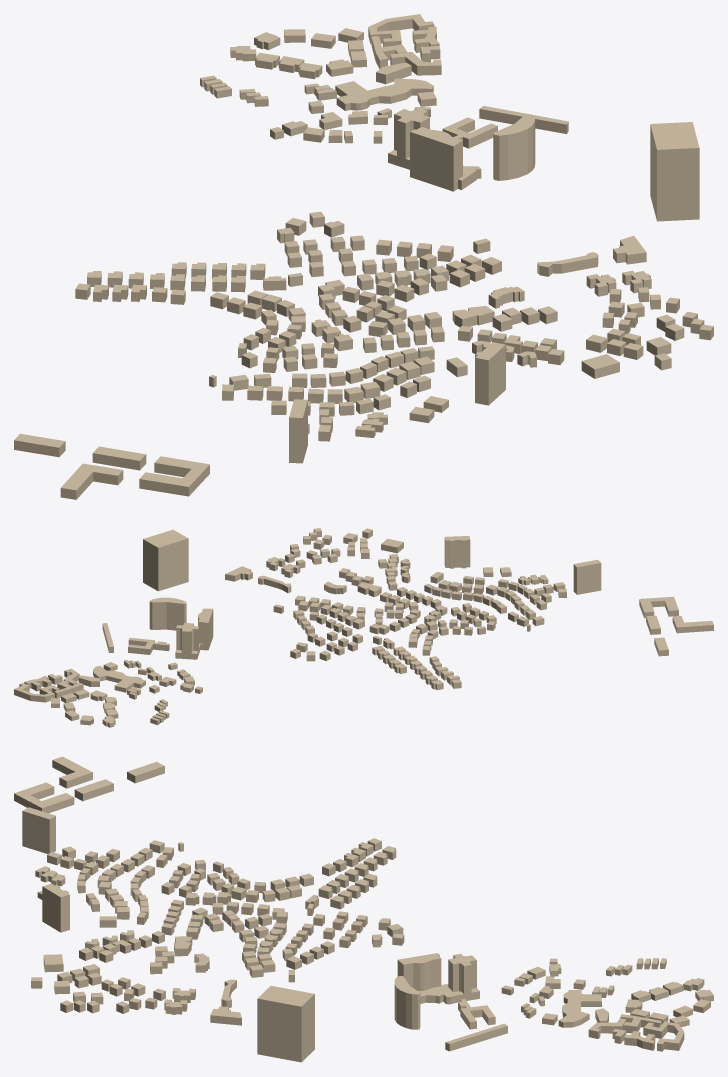
Rendered from -13_-6-estimated-coarse.glb.
3 renders of one model, top to bottom at view 1: azimuth 30°, elevation 25°; view 2: azimuth 150°, elevation 25°; view 3: azimuth 270°, elevation 25°, orthographic. The views are drawn at different scales.
Size of the model in its own units: 1034 by 90 by 1024.
